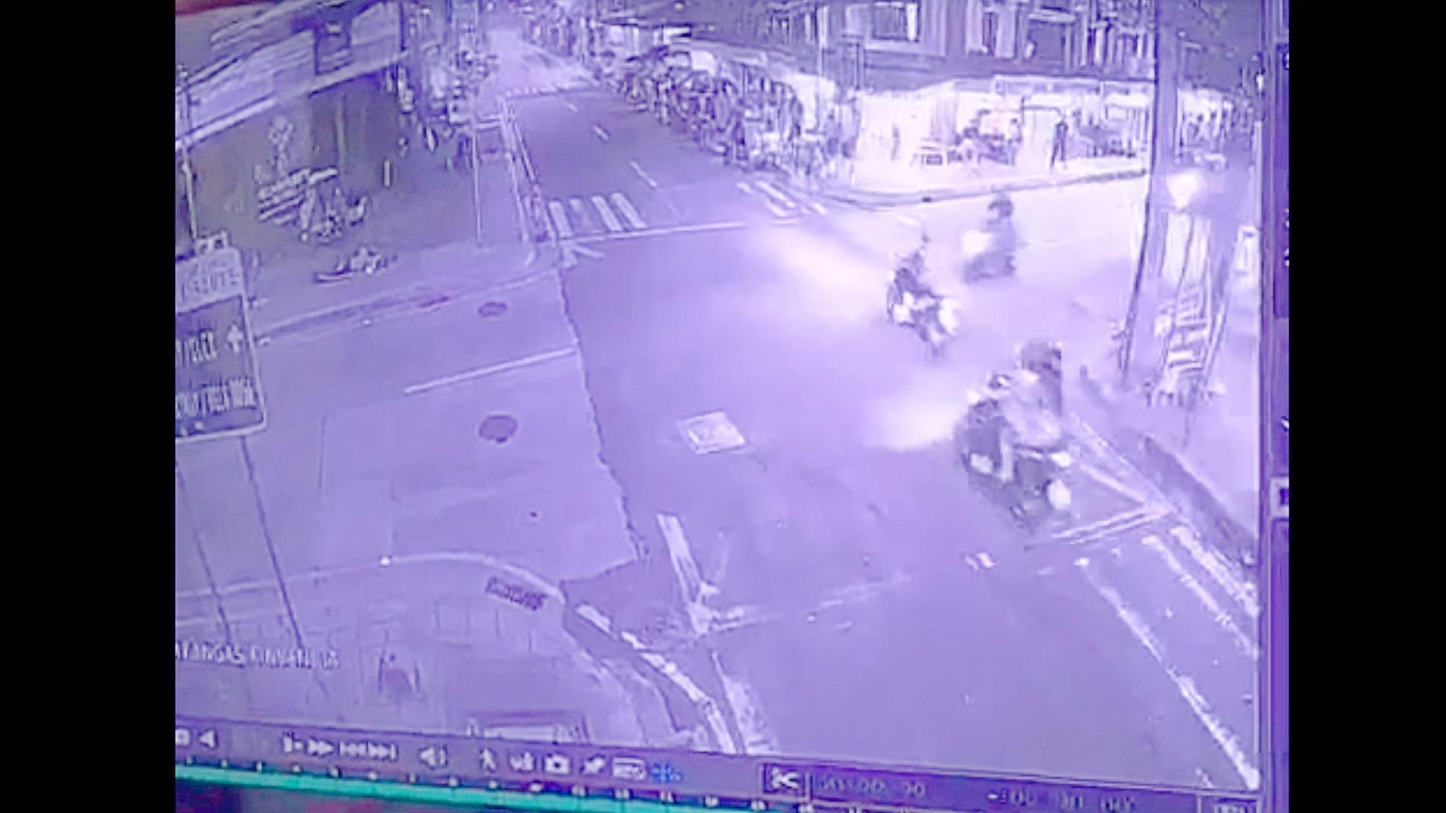Motor: (951, 341, 1066, 516), (878, 225, 964, 355), (965, 194, 1022, 279)
Not Accident: (864, 194, 1025, 358)
